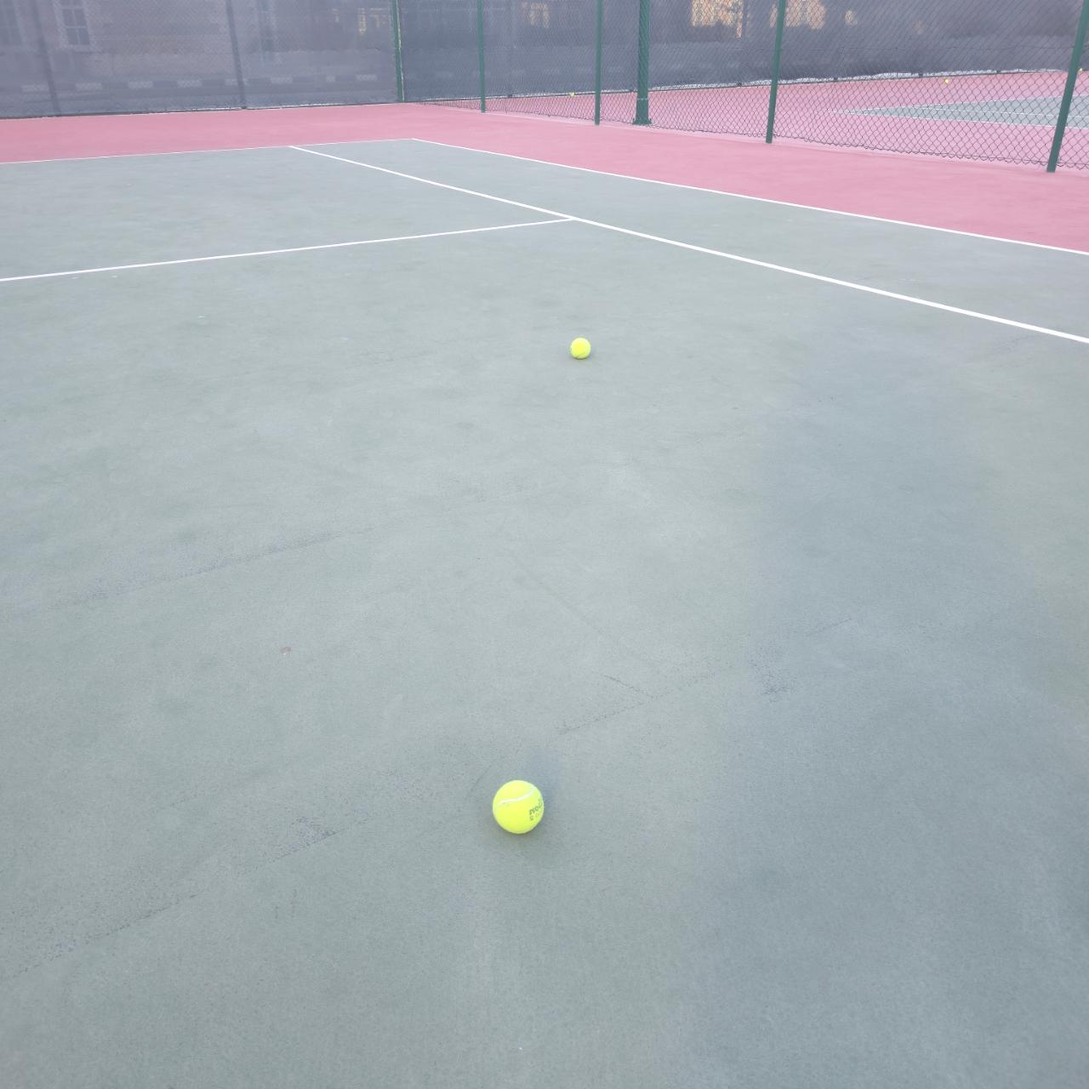tennis-ball: (491, 776, 547, 835), (570, 338, 590, 360)
